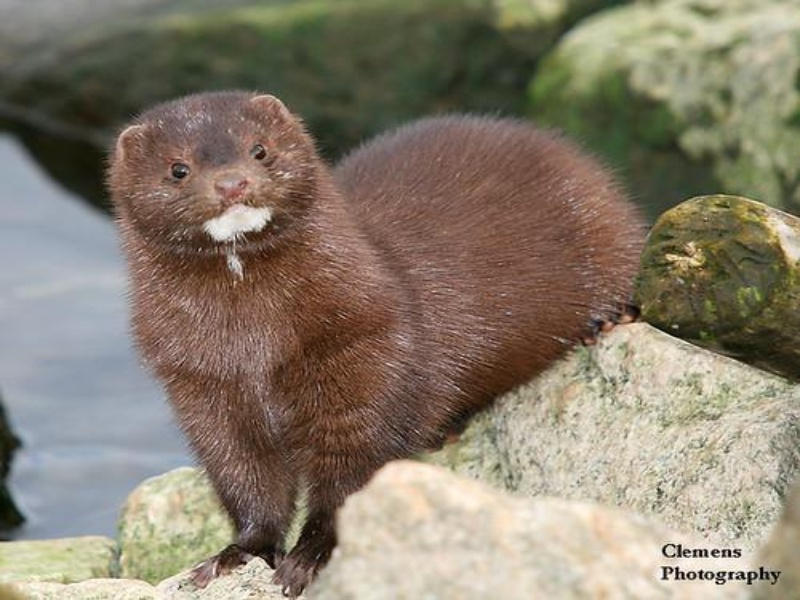minkish: (98, 82, 647, 600)
